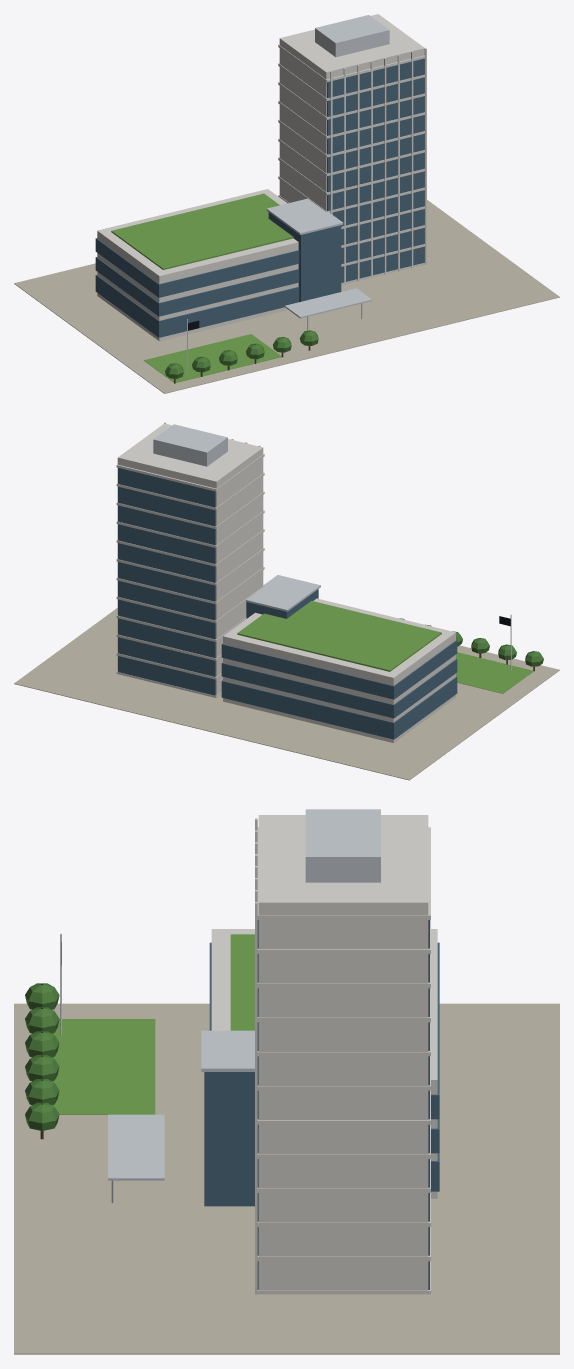
Rendered from city_hall.glb.
3 renders of one model, top to bottom at view 1: azimuth 30°, elevation 25°; view 2: azimuth 150°, elevation 25°; view 3: azimuth 270°, elevation 25°, orthographic. The views are drawn at different scales.
Visible parts, largest first — view 1: CityHall_static; view 2: CityHall_static; view 3: CityHall_static.
Boxes of the visible parts, x1,y1,x2,y2 form: CityHall_static: [14, 14, 559, 393]; CityHall_static: [14, 422, 559, 780]; CityHall_static: [14, 809, 559, 1354].
Bounding box in the file's own units: 88 × 49 × 58.
